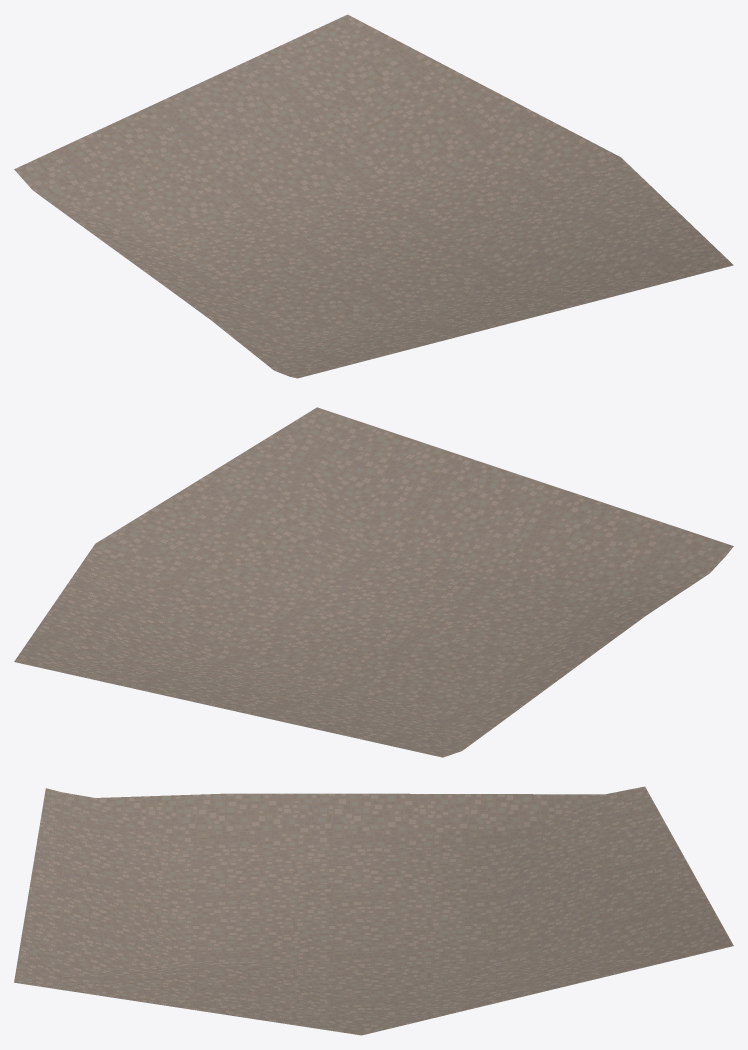
File: kd_stage_135c43_4_149_bounded.glb
3 renders of one model, top to bottom at view 1: azimuth 30°, elevation 25°; view 2: azimuth 150°, elevation 25°; view 3: azimuth 270°, elevation 25°, orthographic. The views are drawn at different scales.
Parts seen in each view (by area): view 1: kd_stage_135c43_4_149_bounded; view 2: kd_stage_135c43_4_149_bounded; view 3: kd_stage_135c43_4_149_bounded.
Part boxes in pixels (<box>): kd_stage_135c43_4_149_bounded: <box>14,14,733,378</box>; kd_stage_135c43_4_149_bounded: <box>14,407,733,757</box>; kd_stage_135c43_4_149_bounded: <box>14,786,733,1035</box>.
Bounding box in the file's own units: 0.7246 × 0.0838 × 0.9048.
Materials: 1 (1 with a texture image).
